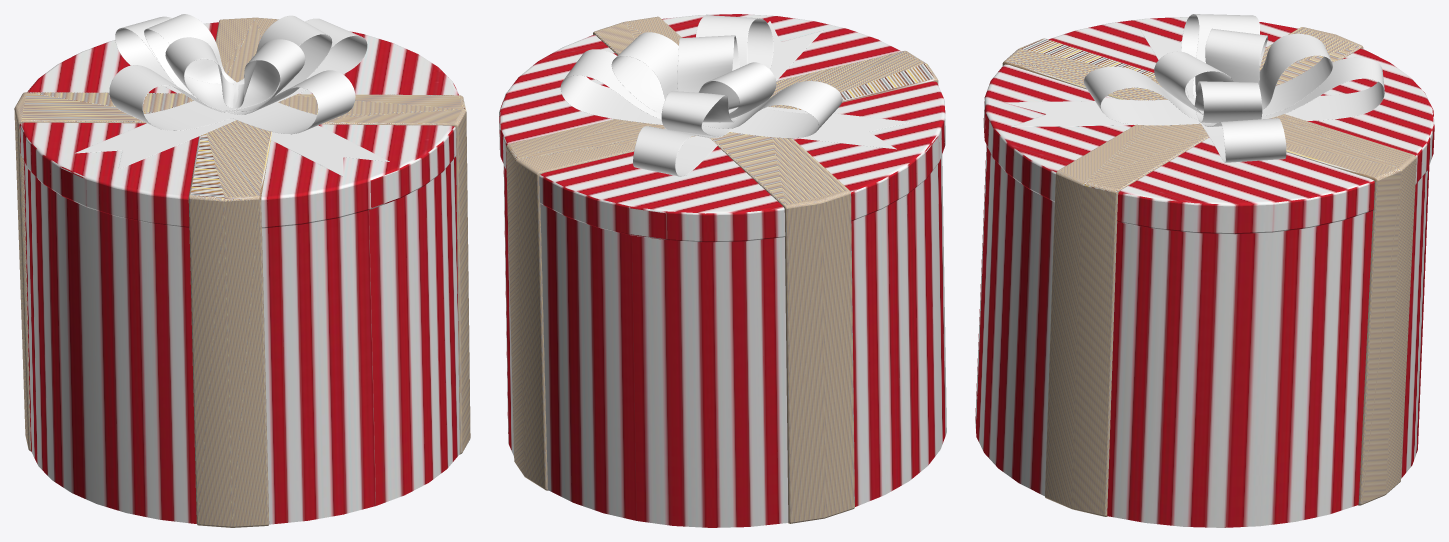
The model's file is GiftBox-style02.glb.
The picture shows the model from 3 angles, left to right: view 1: azimuth 30°, elevation 25°; view 2: azimuth 150°, elevation 25°; view 3: azimuth 270°, elevation 25°; orthographic projection.
Visible parts, largest first — view 1: mainbox, sideRibbon, mainRibbon; view 2: mainbox, sideRibbon, mainRibbon; view 3: mainbox, sideRibbon, mainRibbon.
Part boxes in pixels (x1,y1,x2,y2): mainbox: (19, 22, 459, 524); sideRibbon: (14, 17, 470, 527); mainRibbon: (74, 14, 389, 176); mainbox: (499, 14, 946, 527); sideRibbon: (506, 16, 938, 523); mainRibbon: (560, 15, 911, 176); mainbox: (975, 17, 1434, 527); sideRibbon: (1002, 27, 1416, 516); mainRibbon: (1004, 14, 1384, 162).
Size of the model in its own units: 5.72 by 5.56 by 5.88.
3 materials, 3 textured.
